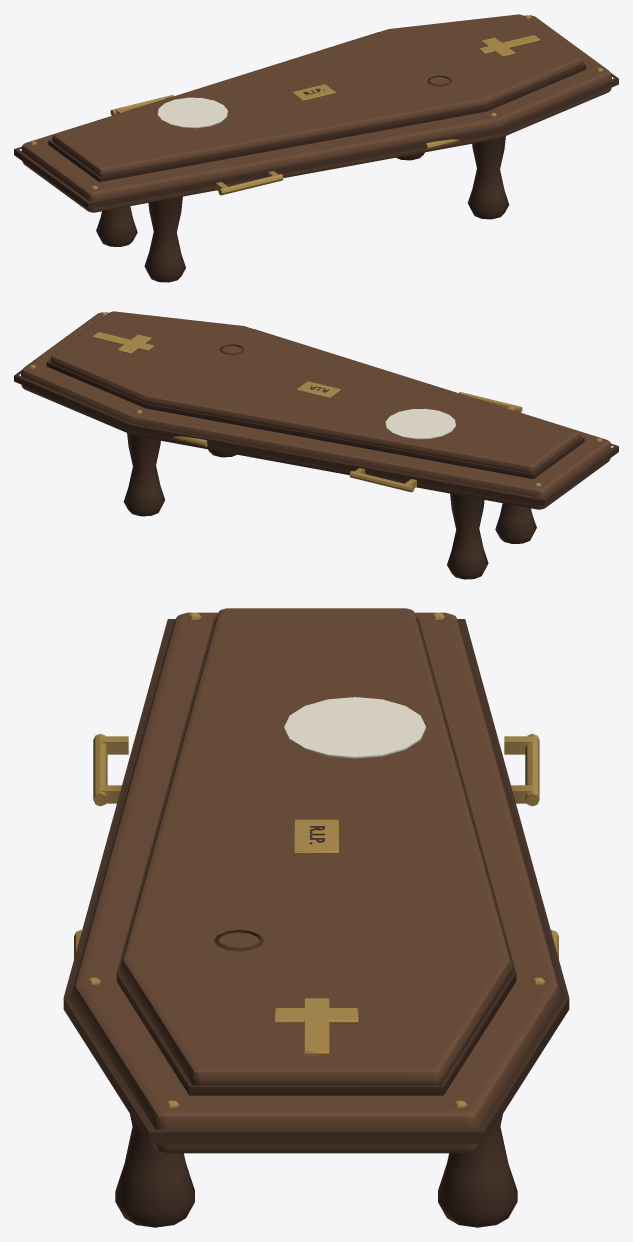
Rendered from table_coffinlid.glb.
The picture shows the model from 3 angles, top to bottom: view 1: azimuth 30°, elevation 25°; view 2: azimuth 150°, elevation 25°; view 3: azimuth 270°, elevation 25°; orthographic projection. The views are drawn at different scales.
Parts seen in each view (by area): view 1: table_coffinlid; view 2: table_coffinlid; view 3: table_coffinlid.
Boxes of the visible parts, box(x1,y1,x2,y2) form: table_coffinlid: box(14, 14, 618, 282); table_coffinlid: box(14, 311, 618, 579); table_coffinlid: box(63, 608, 569, 1227).
Bounding box in the file's own units: 1.88 × 0.426 × 0.7844.
